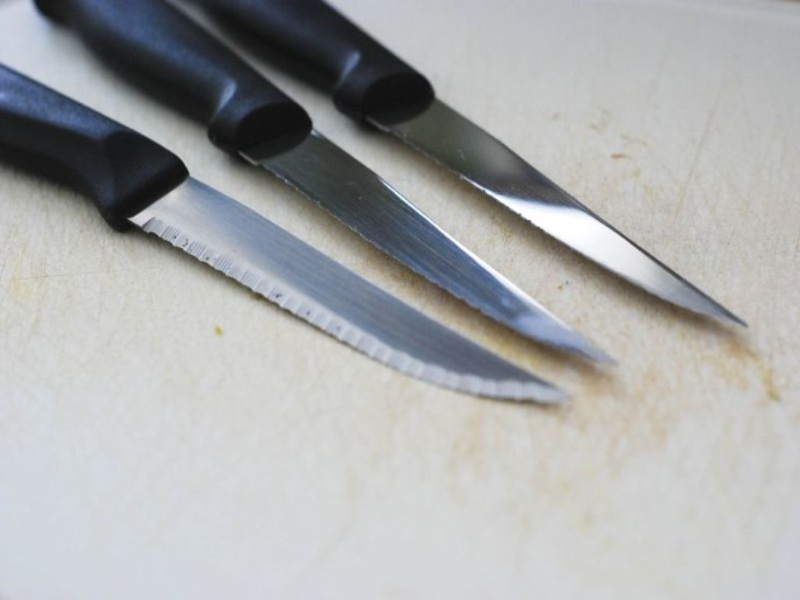knife: (35, 1, 622, 373), (1, 60, 573, 408), (212, 1, 750, 334)
